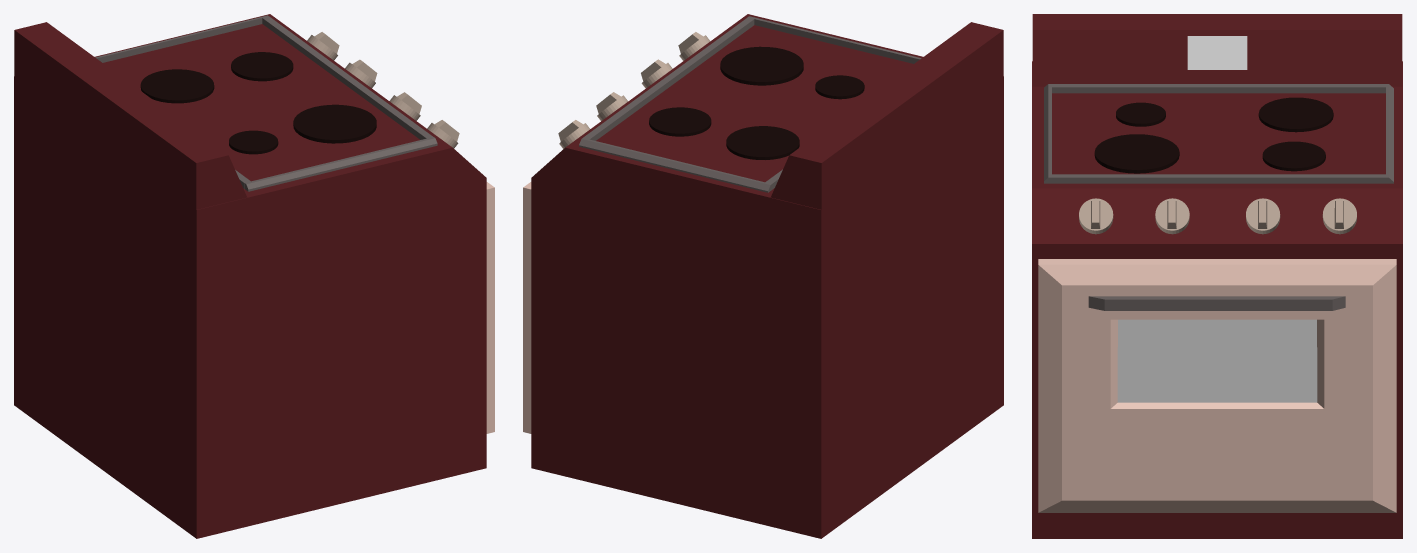
File: OVENSTOVE.fbx
The picture shows the model from 3 angles, left to right: view 1: azimuth 30°, elevation 25°; view 2: azimuth 150°, elevation 25°; view 3: azimuth 270°, elevation 25°; orthographic projection.
Parts seen in each view (by area): view 1: Cube, Cylinder.001, Cube.004, Cube.001, Cube.005; view 2: Cube, Cylinder.001, Cube.004, Cube.001, Cube.005; view 3: Cube, Cube.001, Plane.001, Cube.004, Cylinder.001, Cube.005, Cube.007, Plane.
Part boxes in pixels (x1=…): Cube: x1=14, y1=14, x2=486, y2=538; Cylinder.001: x1=140, y1=52, x2=376, y2=154; Cube.004: x1=95, y1=15, x2=437, y2=191; Cube.001: x1=486, y1=182, x2=494, y2=433; Cube.005: x1=307, y1=32, x2=459, y2=148; Cube: x1=531, y1=14, x2=1003, y2=538; Cylinder.001: x1=649, y1=46, x2=864, y2=159; Cube.004: x1=579, y1=16, x2=921, y2=192; Cube.001: x1=523, y1=182, x2=531, y2=433; Cube.005: x1=558, y1=32, x2=710, y2=148; Cube: x1=1032, y1=14, x2=1402, y2=538; Cube.001: x1=1038, y1=259, x2=1396, y2=512; Plane.001: x1=1117, y1=319, x2=1317, y2=402; Cube.004: x1=1044, y1=84, x2=1393, y2=183; Cylinder.001: x1=1094, y1=97, x2=1333, y2=173; Cube.005: x1=1079, y1=198, x2=1356, y2=234; Cube.007: x1=1088, y1=296, x2=1345, y2=310; Plane: x1=1187, y1=36, x2=1247, y2=69.
Bounding box in the file's own units: 275 × 311 × 274.
